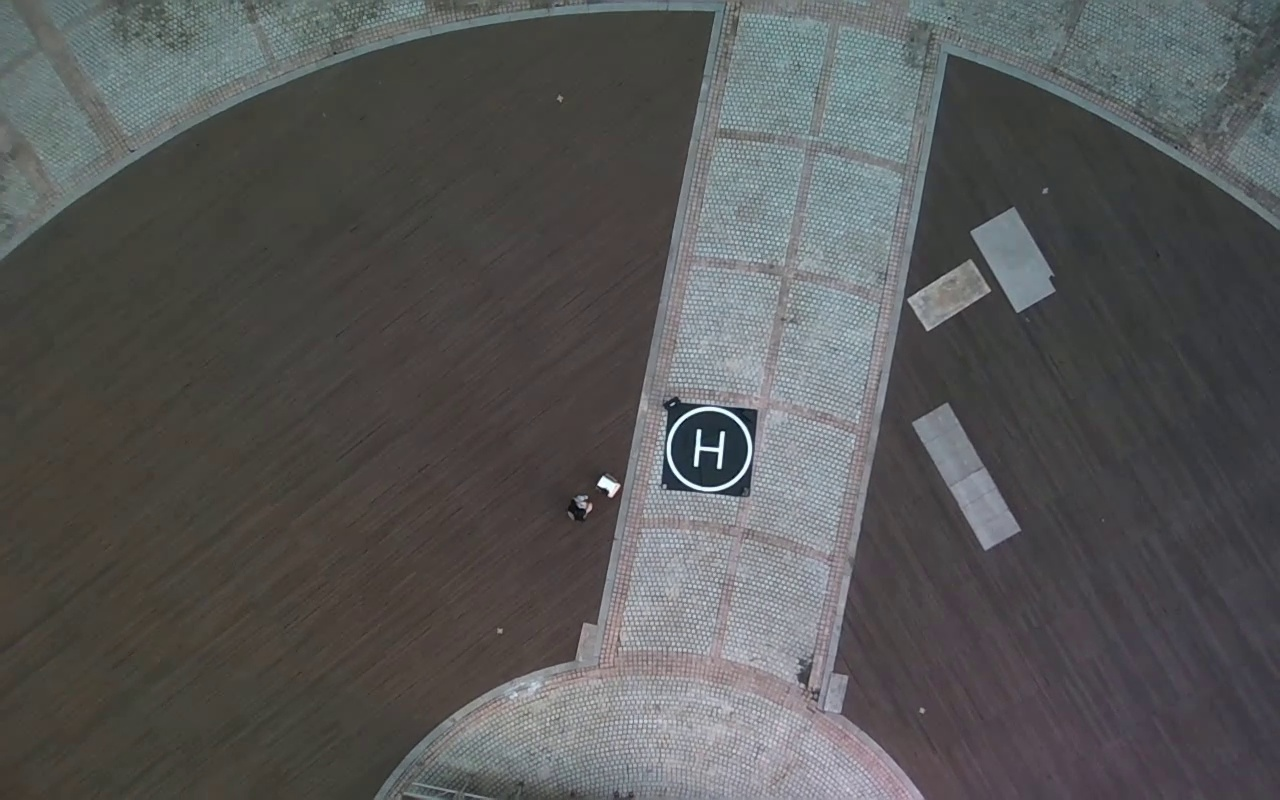H: (690, 428, 724, 470)
heliport: (665, 407, 753, 490)
